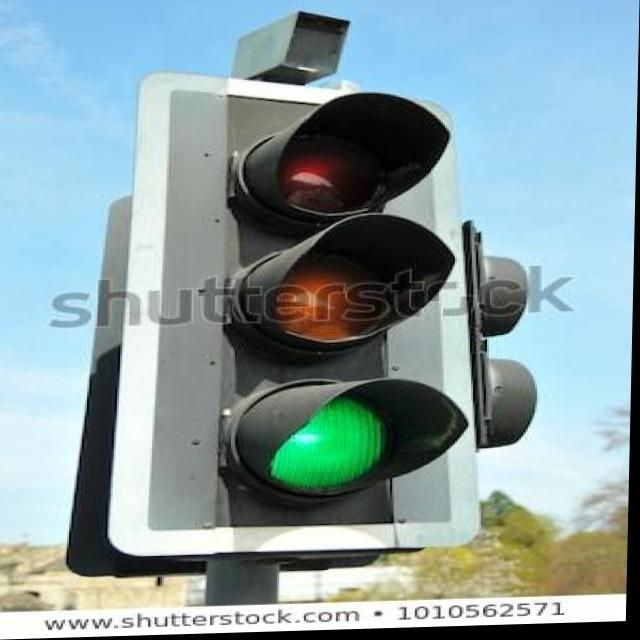green light: (209, 91, 459, 539)
